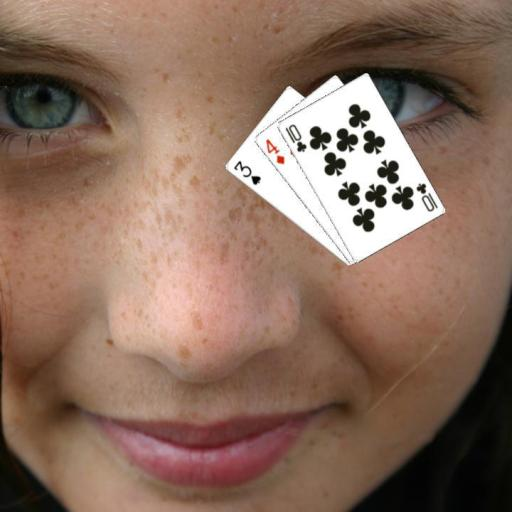10C: (412, 180, 439, 213), (282, 121, 308, 153)
3S: (231, 157, 263, 186)
4D: (262, 136, 286, 166)
